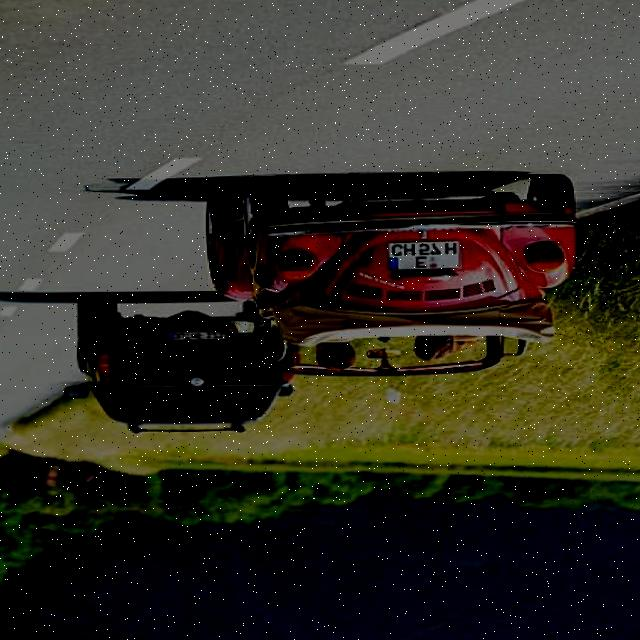car: (203, 181, 580, 363), (80, 305, 301, 426)
